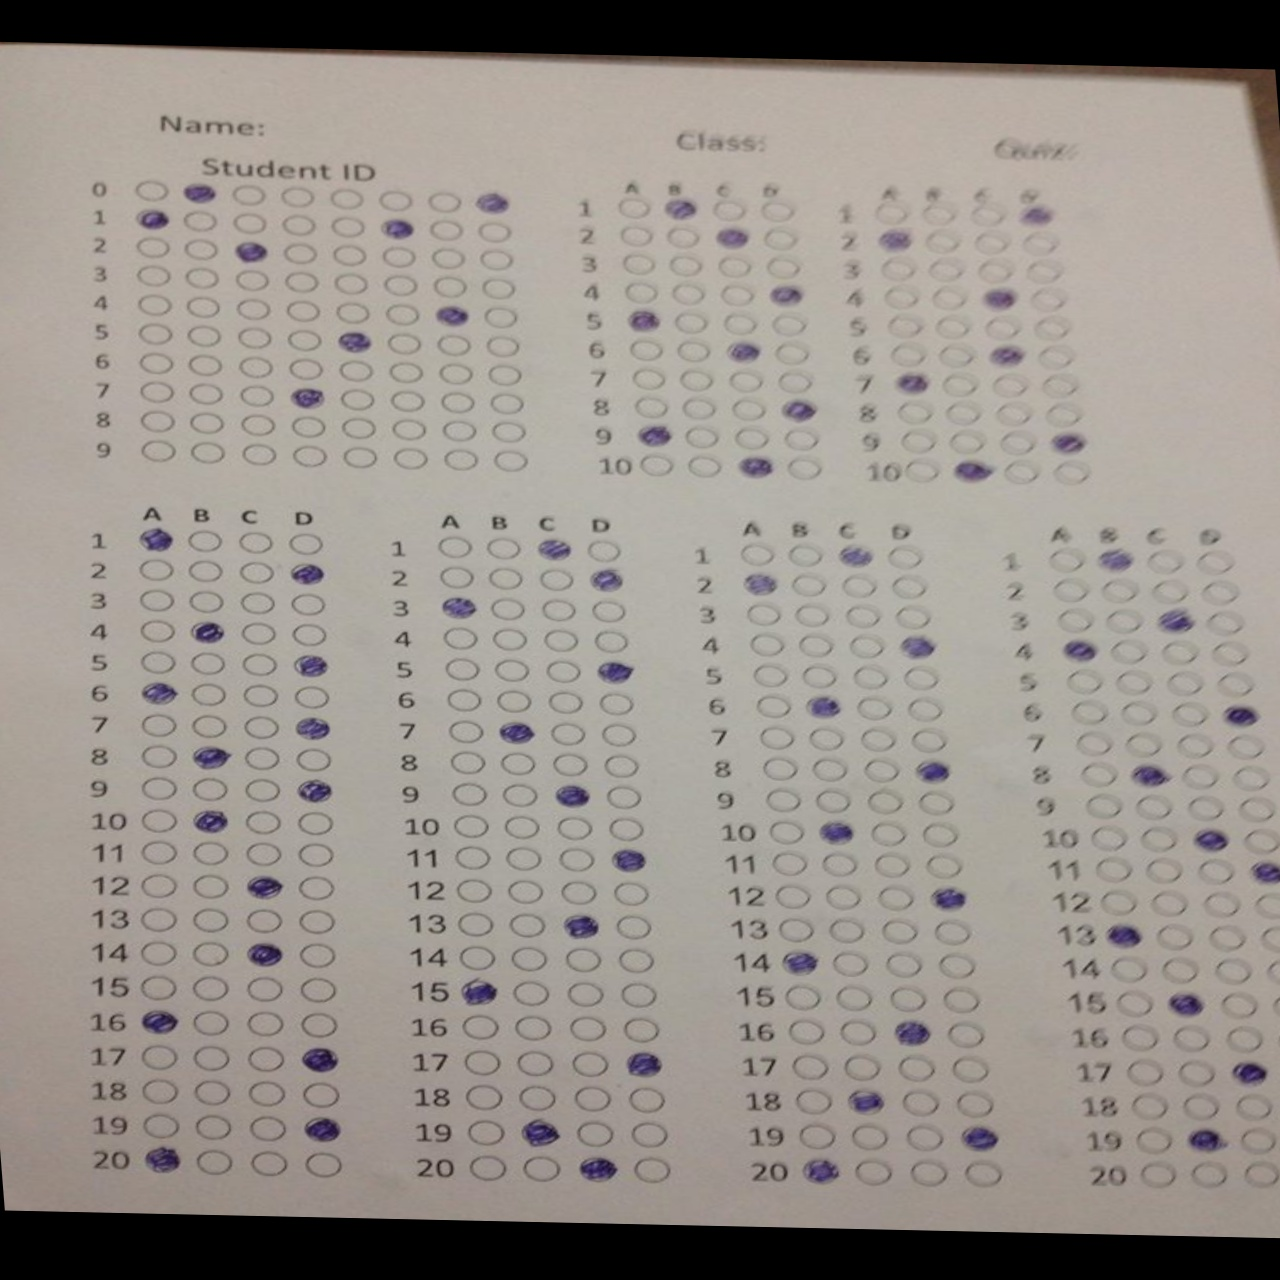not-c: (1141, 856, 1184, 886), (1206, 642, 1254, 669), (1199, 891, 1241, 921), (1051, 459, 1095, 489), (1192, 856, 1235, 885), (1129, 795, 1173, 823), (617, 983, 661, 1010), (1200, 583, 1245, 610), (869, 855, 914, 880), (1089, 858, 1135, 884), (1217, 994, 1262, 1020), (1133, 1163, 1179, 1189), (1182, 1094, 1225, 1121), (1131, 1126, 1175, 1153), (629, 1156, 669, 1185), (563, 1016, 610, 1041), (896, 1054, 937, 1082), (1046, 579, 1092, 604), (939, 988, 983, 1014), (1184, 794, 1228, 819), (1074, 760, 1116, 787), (1232, 1096, 1274, 1123), (516, 1085, 559, 1111), (1123, 1057, 1166, 1083), (297, 842, 338, 869), (297, 874, 338, 901), (1130, 1094, 1171, 1121), (1191, 1160, 1228, 1190), (300, 1151, 345, 1176), (508, 1015, 552, 1040), (1223, 1026, 1267, 1050), (241, 840, 284, 866), (945, 1024, 987, 1050), (1139, 828, 1182, 853), (297, 941, 336, 968), (948, 1056, 988, 1083), (1165, 670, 1205, 697), (1177, 1062, 1217, 1089), (190, 1047, 233, 1071), (243, 1081, 286, 1105), (1226, 735, 1269, 760), (1166, 1026, 1210, 1050), (622, 1017, 663, 1043), (467, 1156, 508, 1182), (855, 1160, 896, 1186), (947, 433, 988, 458), (1194, 550, 1235, 576), (1231, 767, 1272, 792), (1242, 1160, 1280, 1189), (953, 1092, 998, 1116), (1051, 610, 1096, 633), (244, 1009, 282, 1036), (574, 1121, 613, 1148), (846, 1124, 885, 1151), (966, 1162, 1005, 1189), (1065, 667, 1104, 694), (1177, 733, 1216, 760), (1214, 956, 1253, 983), (1117, 1024, 1156, 1051), (628, 1123, 670, 1148), (906, 1125, 946, 1151), (1122, 700, 1162, 726), (1063, 701, 1109, 723), (765, 822, 809, 845), (905, 1162, 948, 1185), (191, 941, 229, 968), (525, 1155, 563, 1182), (1032, 316, 1069, 343), (1105, 610, 1143, 636), (139, 872, 181, 897), (880, 285, 921, 309), (1028, 288, 1069, 313), (1148, 579, 1189, 604), (1107, 639, 1148, 663), (1073, 731, 1114, 756), (241, 651, 280, 676), (139, 776, 178, 802), (190, 873, 229, 899), (903, 1092, 941, 1118), (1116, 669, 1155, 695), (137, 809, 179, 832), (136, 842, 178, 865), (191, 844, 233, 867), (549, 755, 591, 778), (451, 913, 493, 937), (736, 544, 778, 567), (1085, 828, 1128, 851), (1097, 892, 1139, 915), (297, 811, 336, 836), (245, 978, 285, 1002), (137, 1046, 177, 1070), (302, 1083, 342, 1108), (448, 782, 488, 806), (452, 878, 492, 903), (570, 1051, 610, 1076), (890, 577, 930, 601), (755, 695, 795, 720), (920, 822, 960, 846), (823, 885, 863, 910), (1218, 673, 1258, 697), (1084, 794, 1124, 818), (1160, 641, 1197, 668), (190, 975, 227, 1001), (302, 1013, 340, 1039), (982, 316, 1020, 342), (989, 372, 1027, 397), (508, 982, 551, 1005), (234, 561, 275, 585), (241, 745, 282, 769), (244, 910, 285, 933), (141, 1115, 182, 1138), (595, 694, 636, 717), (614, 914, 655, 938), (462, 1085, 503, 1109), (772, 885, 813, 908), (782, 988, 823, 1012), (893, 401, 934, 424), (1042, 406, 1083, 429), (1204, 613, 1245, 636), (1149, 893, 1190, 917), (1115, 992, 1156, 1015), (188, 530, 226, 554), (244, 776, 282, 801), (189, 1012, 227, 1036), (141, 1078, 179, 1103), (250, 1117, 288, 1142), (557, 846, 595, 871), (855, 667, 893, 692), (888, 987, 927, 1012), (1182, 765, 1220, 790), (1238, 799, 1276, 824), (1241, 830, 1280, 855), (1112, 955, 1151, 980), (195, 1080, 230, 1107), (129, 181, 171, 203), (933, 956, 978, 978), (885, 343, 930, 365), (328, 185, 365, 211), (862, 758, 898, 784), (835, 986, 871, 1012), (975, 258, 1012, 284), (1033, 346, 1069, 372), (377, 189, 417, 212), (139, 620, 179, 644), (295, 747, 335, 770), (193, 1116, 233, 1139), (247, 1151, 287, 1175), (545, 692, 585, 715), (561, 949, 601, 973), (462, 1051, 502, 1075), (628, 1090, 668, 1114), (901, 461, 941, 484), (568, 983, 606, 1008), (1001, 459, 1039, 484), (1212, 926, 1250, 951), (239, 685, 280, 707), (290, 685, 331, 707), (892, 607, 933, 629), (905, 699, 946, 721), (756, 727, 797, 749), (1172, 704, 1213, 727), (433, 275, 471, 299), (333, 302, 372, 326), (284, 329, 322, 353), (488, 421, 526, 444), (241, 442, 280, 465), (185, 590, 224, 613), (290, 622, 328, 646), (190, 776, 229, 799), (141, 976, 179, 1000), (550, 723, 588, 747), (604, 787, 642, 810), (554, 817, 593, 840), (458, 947, 497, 971), (842, 605, 880, 628), (805, 728, 844, 751), (925, 855, 964, 878), (425, 190, 462, 215), (292, 444, 328, 469), (190, 651, 226, 675), (301, 978, 338, 1002), (247, 1046, 284, 1070), (450, 719, 486, 743), (765, 789, 802, 813), (789, 1020, 825, 1044), (993, 401, 1029, 425), (1163, 959, 1199, 983), (614, 199, 656, 220), (132, 265, 172, 287), (280, 272, 320, 294), (135, 352, 175, 374), (186, 354, 226, 376), (285, 532, 325, 554), (237, 592, 277, 614), (138, 941, 178, 964), (499, 753, 539, 775), (606, 818, 646, 840), (558, 884, 598, 906), (465, 1121, 505, 1143), (818, 856, 858, 878), (874, 887, 914, 910), (1026, 263, 1065, 285), (931, 288, 971, 311), (1098, 581, 1138, 604), (1121, 733, 1160, 755), (184, 266, 222, 290), (240, 384, 278, 408), (440, 392, 477, 415), (288, 593, 326, 617), (139, 745, 177, 769), (297, 911, 334, 934), (601, 723, 639, 747), (501, 816, 538, 839), (920, 792, 958, 816), (798, 1125, 836, 1149), (899, 431, 937, 455), (998, 433, 1035, 456), (232, 209, 266, 234), (1242, 1129, 1276, 1155), (331, 274, 372, 295), (186, 324, 222, 348), (338, 359, 373, 383), (342, 387, 377, 411), (196, 1149, 231, 1173), (779, 429, 821, 450), (810, 760, 851, 781), (828, 953, 869, 974), (884, 956, 925, 978), (887, 318, 928, 339), (282, 188, 321, 210), (234, 268, 273, 291), (234, 358, 273, 380), (188, 441, 226, 463), (443, 628, 482, 651), (443, 659, 482, 681), (509, 948, 547, 971), (571, 1089, 610, 1111), (685, 455, 723, 477), (903, 668, 941, 690), (855, 696, 893, 719), (968, 206, 1007, 229), (876, 260, 914, 282), (246, 811, 282, 835), (538, 567, 574, 591), (496, 660, 532, 683), (547, 660, 584, 683), (602, 754, 639, 777), (502, 785, 538, 809), (621, 951, 658, 974), (463, 1016, 499, 1040), (685, 425, 721, 449), (869, 822, 905, 845), (1151, 552, 1187, 576), (1160, 926, 1197, 949), (232, 186, 272, 207), (188, 384, 227, 406), (139, 715, 179, 736), (938, 347, 978, 368), (233, 300, 271, 322), (388, 392, 425, 414), (341, 445, 379, 468), (490, 449, 527, 471), (139, 590, 177, 612), (509, 915, 546, 938), (668, 284, 706, 306), (788, 574, 825, 597), (858, 730, 896, 753), (866, 791, 904, 813), (387, 332, 422, 355), (492, 393, 527, 416), (683, 396, 719, 420), (787, 457, 822, 481), (935, 920, 971, 944), (493, 692, 535, 712), (287, 358, 326, 379), (237, 416, 275, 437), (392, 448, 430, 469), (188, 716, 226, 737), (796, 636, 835, 658), (1046, 547, 1084, 568), (277, 213, 313, 236), (280, 241, 316, 264), (382, 247, 418, 270), (137, 294, 173, 316), (137, 324, 173, 346), (437, 334, 474, 356), (388, 361, 424, 383), (139, 410, 176, 433), (188, 411, 224, 434), (144, 441, 181, 463), (190, 908, 226, 931), (587, 540, 624, 563), (450, 751, 486, 774), (450, 816, 486, 838), (506, 881, 543, 904), (517, 1054, 553, 1076), (777, 343, 813, 366), (617, 881, 651, 905), (338, 418, 377, 438), (440, 420, 479, 440), (869, 204, 908, 224), (184, 297, 222, 318), (244, 717, 281, 738), (139, 908, 177, 930), (543, 629, 580, 651), (769, 853, 806, 874), (881, 921, 919, 942), (794, 1091, 831, 1112), (971, 233, 1008, 254), (1021, 234, 1058, 256), (136, 236, 171, 258), (184, 237, 219, 259), (384, 274, 420, 297), (384, 304, 420, 326), (139, 381, 175, 403), (188, 559, 223, 581), (456, 847, 491, 870), (667, 229, 702, 251), (720, 285, 755, 307), (634, 396, 669, 418), (747, 602, 782, 625), (828, 920, 863, 942), (234, 328, 273, 348), (760, 760, 798, 779), (779, 921, 818, 941), (508, 849, 540, 872), (722, 313, 755, 336), (731, 399, 764, 422), (798, 605, 831, 628), (818, 790, 851, 813), (181, 210, 217, 231), (440, 365, 476, 386), (291, 417, 327, 438), (236, 533, 272, 554), (491, 598, 527, 619), (675, 341, 712, 362), (845, 635, 881, 656), (921, 232, 958, 253), (1042, 377, 1078, 399), (1252, 891, 1280, 918), (331, 244, 365, 266), (286, 301, 320, 324), (490, 365, 524, 387), (192, 682, 226, 704), (542, 599, 576, 621), (593, 600, 627, 622), (493, 628, 527, 651), (713, 200, 747, 223), (680, 369, 714, 392), (777, 372, 811, 394), (842, 577, 876, 599), (425, 220, 463, 240), (390, 420, 428, 440), (441, 450, 481, 469), (445, 692, 483, 712), (927, 260, 965, 280), (933, 318, 971, 338), (431, 247, 467, 268), (241, 622, 277, 644), (673, 312, 708, 333), (772, 315, 804, 339), (787, 546, 822, 567), (804, 667, 836, 690), (911, 731, 946, 753), (840, 1022, 876, 1043), (490, 568, 523, 591), (481, 308, 517, 328), (484, 338, 520, 358), (940, 377, 981, 395), (483, 277, 517, 298), (139, 653, 173, 674), (440, 537, 474, 558), (668, 256, 702, 277), (717, 256, 751, 277), (631, 340, 665, 361), (946, 404, 980, 425), (622, 254, 654, 277), (846, 1057, 878, 1080), (636, 458, 674, 477), (331, 218, 366, 238), (479, 248, 515, 268), (594, 633, 629, 653), (622, 282, 658, 302), (632, 370, 667, 390), (753, 668, 788, 688), (749, 635, 785, 654), (1258, 925, 1280, 955), (139, 560, 173, 580), (760, 202, 794, 222), (762, 230, 794, 251), (768, 257, 799, 278), (794, 1056, 825, 1077), (925, 204, 956, 225), (438, 568, 474, 587), (888, 547, 921, 567), (490, 539, 522, 559), (730, 372, 762, 392), (733, 430, 765, 449), (622, 227, 654, 246), (479, 222, 508, 241), (1267, 959, 1280, 987), (1269, 995, 1280, 1021), (1274, 1028, 1280, 1054)
taken-c: (956, 1121, 1005, 1155), (1160, 988, 1210, 1021), (570, 1152, 620, 1184), (908, 755, 959, 787), (797, 1155, 844, 1187), (456, 974, 501, 1008), (298, 1046, 347, 1076), (888, 1016, 935, 1048), (1182, 1124, 1230, 1155), (777, 948, 823, 980), (1227, 1056, 1273, 1088), (799, 692, 846, 722), (1099, 920, 1148, 949), (1216, 701, 1264, 730), (241, 872, 287, 903), (1189, 825, 1235, 855), (550, 781, 594, 811), (135, 1006, 181, 1035), (518, 1118, 564, 1148), (284, 560, 331, 588), (241, 940, 286, 969), (894, 632, 939, 661), (813, 817, 858, 846), (1126, 762, 1175, 789), (1153, 607, 1201, 634), (292, 777, 338, 805), (559, 912, 601, 942), (832, 542, 878, 570), (621, 1050, 665, 1080), (1055, 638, 1102, 665), (591, 658, 635, 686), (763, 281, 808, 309), (736, 568, 781, 597), (141, 1145, 183, 1175), (622, 307, 668, 334), (131, 205, 175, 233), (493, 719, 537, 747), (927, 884, 971, 912), (1046, 430, 1092, 456), (712, 225, 753, 254), (659, 195, 703, 222), (192, 806, 234, 835), (845, 1087, 887, 1115), (376, 215, 420, 241), (229, 238, 272, 265), (290, 716, 333, 743), (472, 189, 513, 217), (139, 680, 181, 708), (735, 452, 776, 481), (978, 286, 1022, 312), (1242, 856, 1280, 886), (189, 744, 231, 771), (301, 1115, 341, 1143), (634, 423, 678, 449), (1092, 549, 1136, 574), (535, 536, 576, 563), (288, 384, 331, 410), (608, 846, 651, 872), (438, 594, 481, 620), (949, 458, 992, 484), (587, 567, 627, 594), (871, 229, 914, 253), (722, 339, 763, 365), (777, 396, 818, 422), (1014, 203, 1055, 229), (433, 304, 475, 328), (291, 652, 331, 678), (134, 527, 177, 551), (891, 370, 932, 395), (986, 343, 1027, 368), (179, 179, 218, 205), (334, 328, 373, 353), (188, 619, 226, 644)
